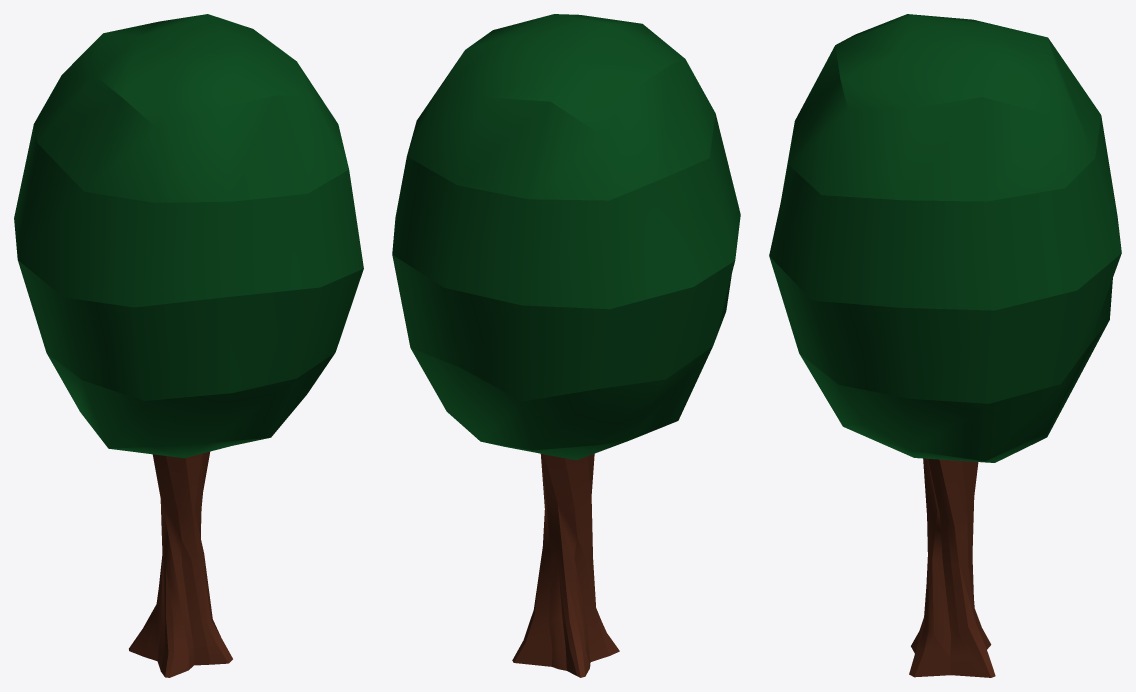
Rendered from Tree_2_High.fbx.
3 views of the same model, side by side, from view 1: azimuth 30°, elevation 25°; view 2: azimuth 150°, elevation 25°; view 3: azimuth 270°, elevation 25° (orthographic). The views are drawn at different scales.
Parts seen in each view (by area): view 1: Tree_2_High; view 2: Tree_2_High; view 3: Tree_2_High.
Boxes of the visible parts, x1=… form: Tree_2_High: x1=14, y1=14, x2=363, y2=677; Tree_2_High: x1=392, y1=14, x2=740, y2=677; Tree_2_High: x1=769, y1=14, x2=1121, y2=677.
Bounding box in the file's own units: 101 × 204 × 102.
